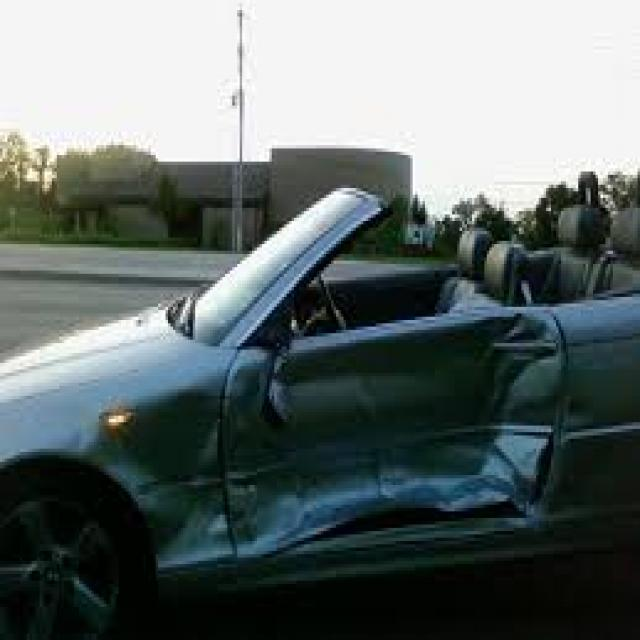moderate: (72, 338, 598, 582)
